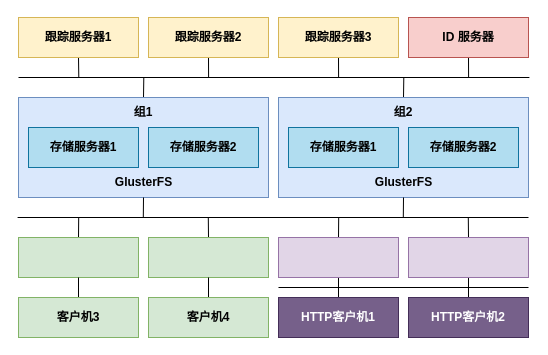
Some shapes in this 548 by 355 pixel diagram are drawn without their labels. Here are the shapes that lost their labels. From the top down, the centre of each, then its label:
At (78,257): "客户机1".
At (208,257): "客户机2".
At (338,257): "HTTP服务器1".
At (468,257): "HTTP服务器2".
